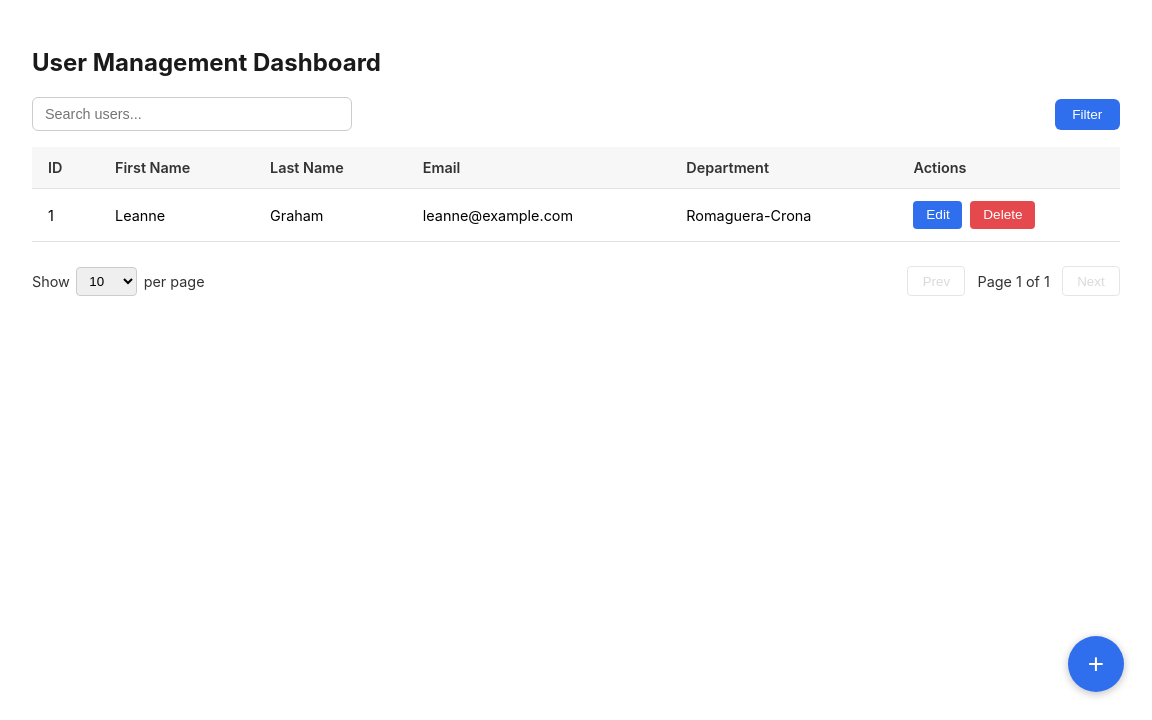
Test case: App - Add user flow › opens the Add modal when the floating add button is clicked
Click the button named "Add User" at {"x": 1096, "y": 664}, box [1068,636,1124,692]
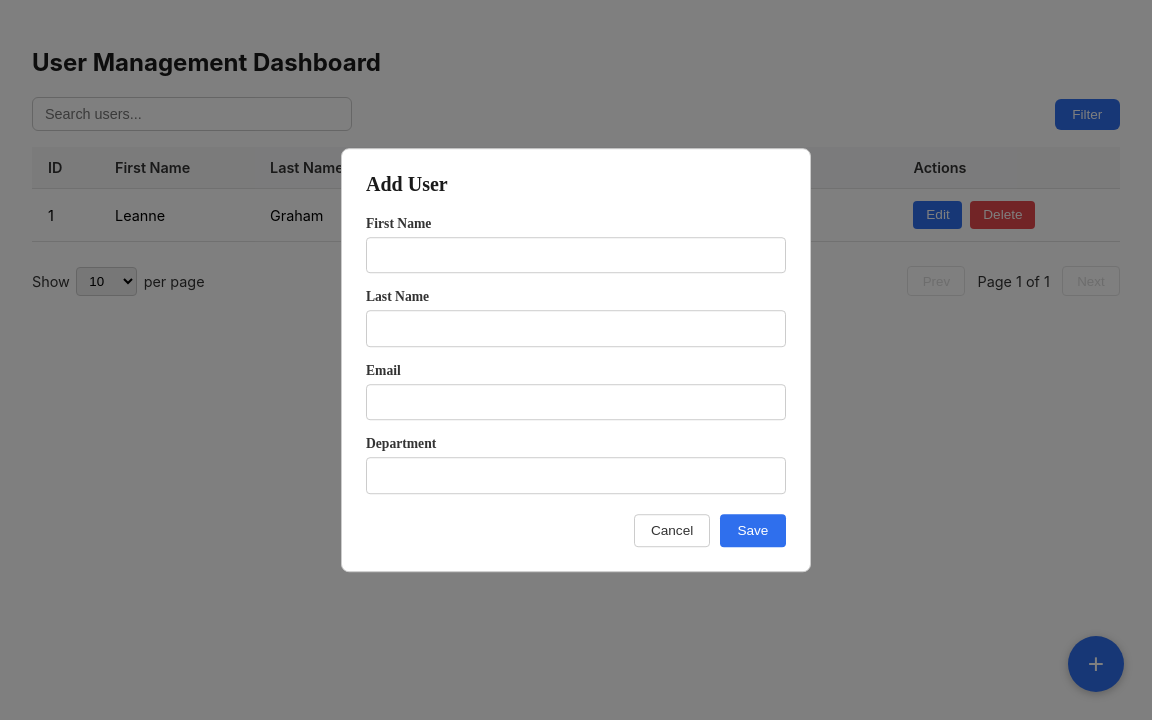
Now the heading "Add User" is shown, box [366,173,448,195]
